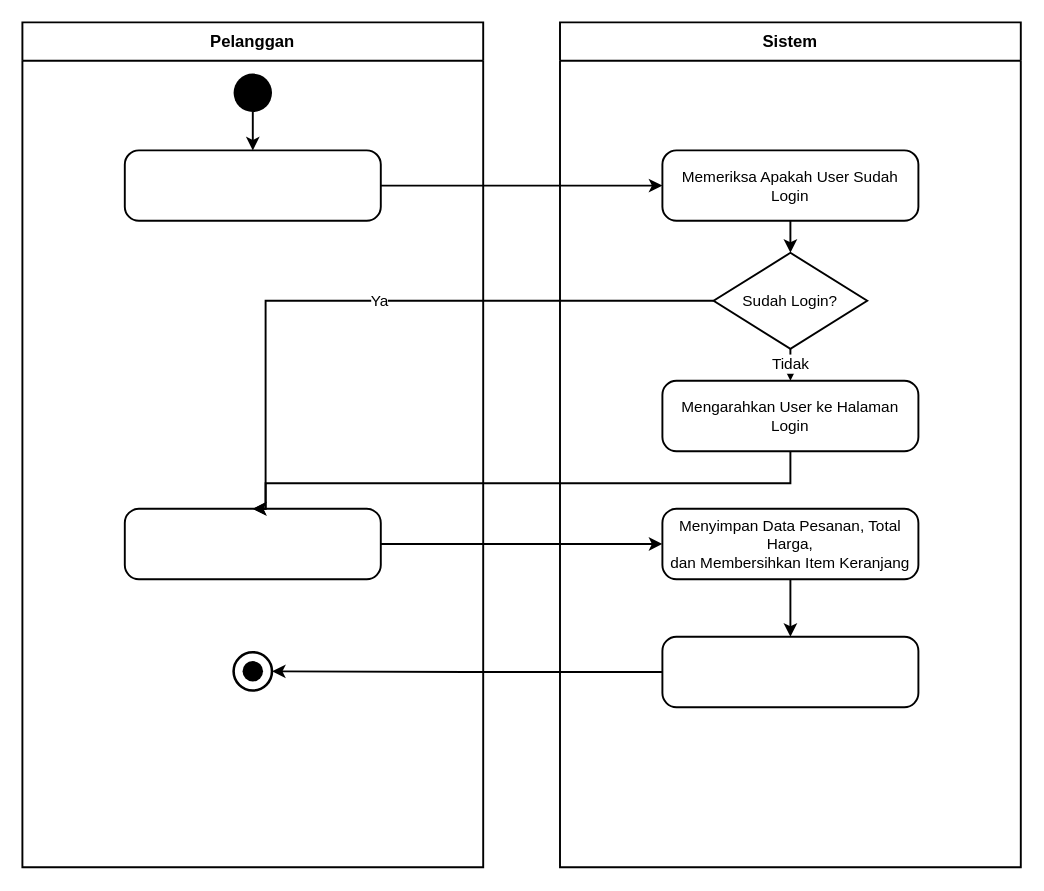
Image size: 1044x891. Some labels were removed from this diagram. The box of each missing label's shape, as (x1, y1, x2, y2) in pixels:
Klik Tombol Checkout pada Keranjang: (123, 149, 381, 221)
Menampilkan Halaman Pembayaran dengan Nominal Unik Transfer Bank: (661, 635, 919, 708)
Mengisi Form Checkout (Alamat, Kurir Pengiriman, WhatsApp): (123, 507, 381, 580)
